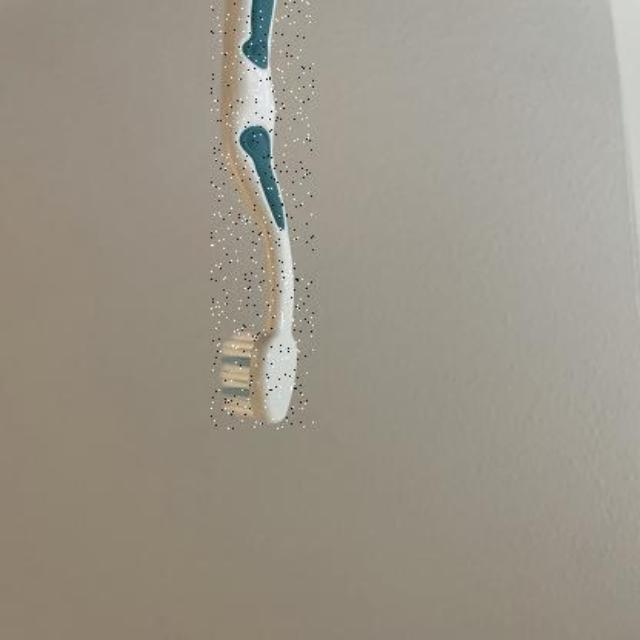toothbrush: (210, 1, 314, 430)
